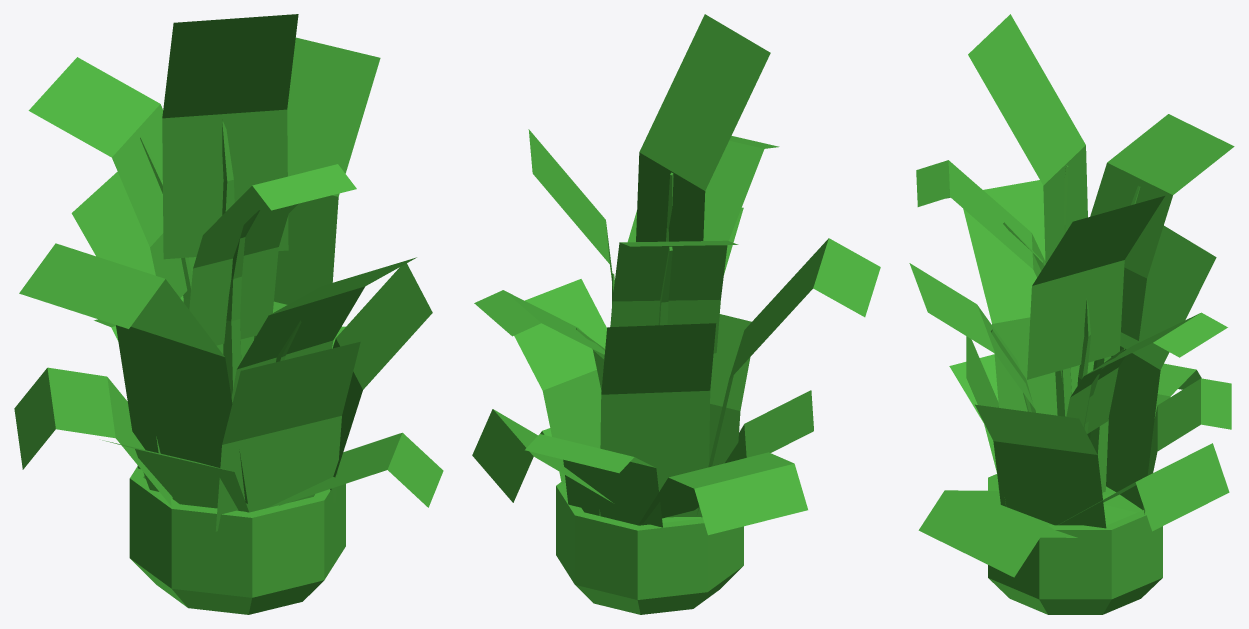
File: pottedplant.fbx
The picture shows the model from 3 angles, left to right: view 1: azimuth 30°, elevation 25°; view 2: azimuth 150°, elevation 25°; view 3: azimuth 270°, elevation 25°; orthographic projection. The views are drawn at different scales.
Visible parts, largest first — view 1: plane_13, plane_9, pot base, plane_10, plane_12, plane, plane_14, plane_8, plane_5, plane_1, plane_4, plane_6 (+3 smaller); view 2: plane_13, plane_4, pot base, plane_5, plane, plane_8, plane_3, plane_9, plane_10, plane_2, plane_14, plane_12 (+3 smaller); view 3: plane_12, pot base, plane_13, plane_4, plane_5, plane, plane_9, plane_6, plane_2, plane_14, plane_11, plane_3 (+7 smaller).
Part boxes in pixels (box(x1,y1,x2,y2)): plane_13: box(162, 14, 298, 259); plane_9: box(19, 243, 247, 503); pot base: box(129, 466, 345, 614); plane_10: box(215, 341, 360, 531); plane_12: box(274, 37, 380, 304); plane: box(28, 57, 196, 297); plane_14: box(189, 164, 356, 345); plane_8: box(14, 367, 172, 506); plane_5: box(330, 263, 432, 490); plane_1: box(231, 257, 416, 403); plane_4: box(71, 172, 183, 453); plane_6: box(268, 432, 443, 507); plane_13: box(636, 14, 770, 241); plane_4: box(599, 323, 716, 517); pot base: box(556, 482, 743, 614); plane_5: box(514, 279, 606, 484); plane: box(610, 240, 738, 353); plane_8: box(639, 452, 807, 535); plane_3: box(525, 434, 662, 527); plane_9: box(697, 238, 880, 514); plane_10: box(709, 314, 751, 466); plane_2: box(472, 409, 612, 502); plane_14: box(703, 136, 779, 240); plane_12: box(528, 129, 613, 291); plane_12: box(1027, 196, 1164, 379); pot base: box(988, 474, 1162, 614); plane_13: box(968, 14, 1087, 263); plane_4: box(1087, 225, 1216, 509); plane_5: box(975, 404, 1106, 528); plane: box(1090, 114, 1234, 340); plane_9: box(946, 180, 1094, 415); plane_6: box(918, 490, 1077, 577); plane_2: box(1058, 443, 1229, 531); plane_14: box(916, 160, 1062, 381); plane_11: box(1066, 312, 1227, 433); plane_3: box(1142, 378, 1231, 514).
Bounding box in the file's own units: 46.26 × 67.05 × 37.16.
1 material, 1 textured.
